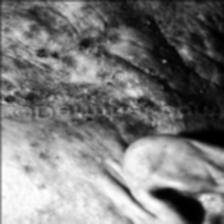Potentially Malignant Skin Tumors: (0, 79, 104, 108)
